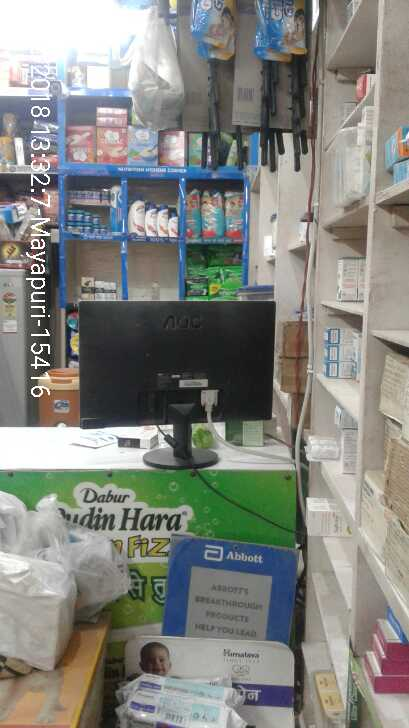vicks: (63, 207, 108, 235), (109, 182, 125, 232), (66, 187, 109, 203)
